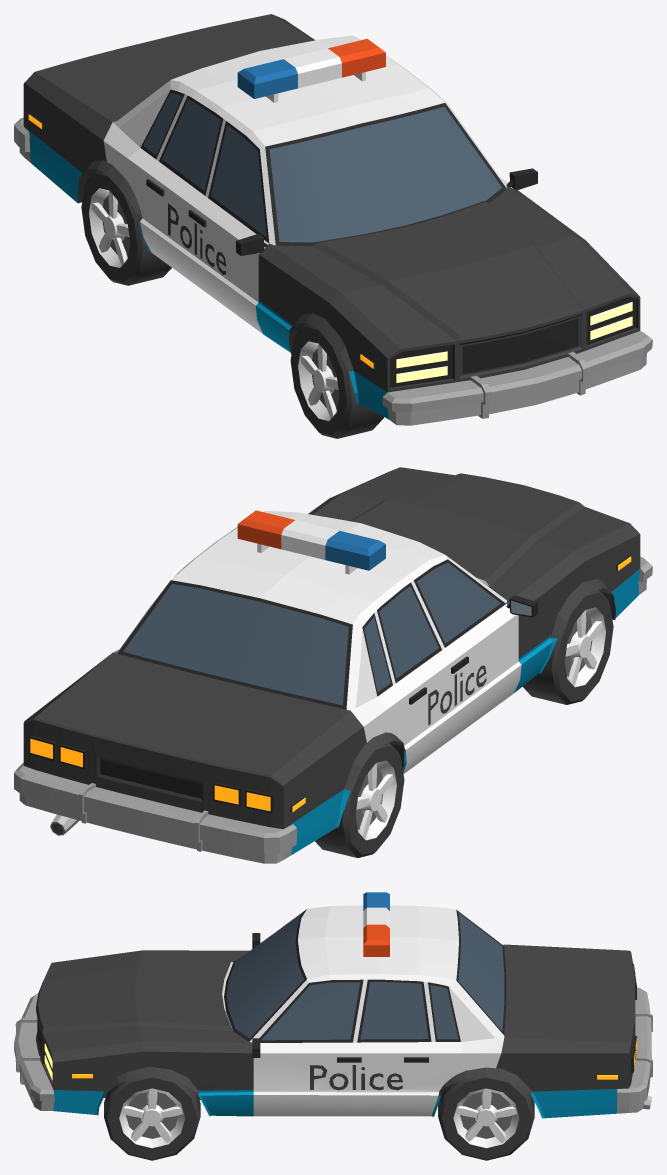
File: Police_Car_N_4.glb
The picture shows the model from 3 angles, top to bottom: view 1: azimuth 30°, elevation 25°; view 2: azimuth 150°, elevation 25°; view 3: azimuth 270°, elevation 25°; orthographic projection. The views are drawn at different scales.
Parts seen in each view (by area): view 1: Police Car N_4, Police Car N_4 FR Tire, Police Car N_4 BR Tire; view 2: Police Car N_4, Police Car N_4 FR Tire, Police Car N_4 BR Tire; view 3: Police Car N_4, Police Car N_4 FL Tire, Police Car N_4 BL Tire.
Part boxes in pixels (x1=…): Police Car N_4: x1=14, y1=14, x2=652, y2=425; Police Car N_4 FR Tire: x1=290, y1=323, x2=383, y2=438; Police Car N_4 BR Tire: x1=81, y1=169, x2=171, y2=285; Police Car N_4: x1=14, y1=467, x2=652, y2=863; Police Car N_4 FR Tire: x1=522, y1=589, x2=613, y2=704; Police Car N_4 BR Tire: x1=315, y1=742, x2=404, y2=857; Police Car N_4: x1=14, y1=892, x2=652, y2=1118; Police Car N_4 FL Tire: x1=104, y1=1075, x2=200, y2=1160; Police Car N_4 BL Tire: x1=438, y1=1075, x2=534, y2=1160.
Size of the model in its own units: 2.13 by 1.67 by 4.97.
Materials: 2 (2 with a texture image).
